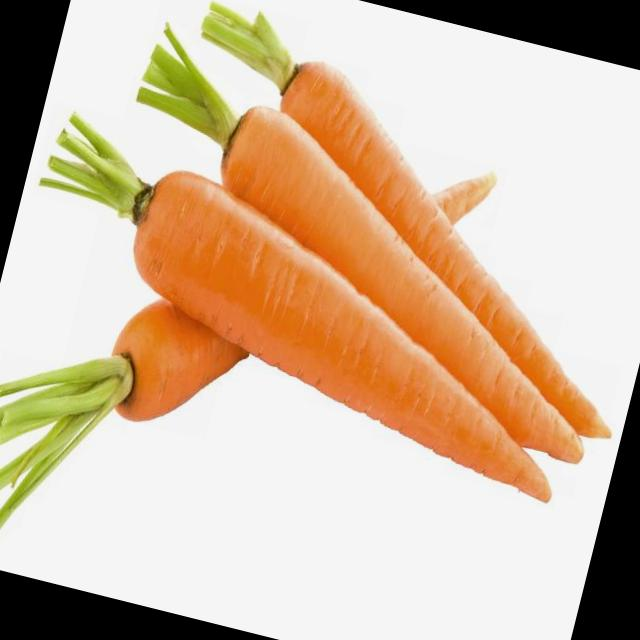carrot: (92, 163, 606, 507), (168, 94, 640, 468), (220, 54, 640, 439)
